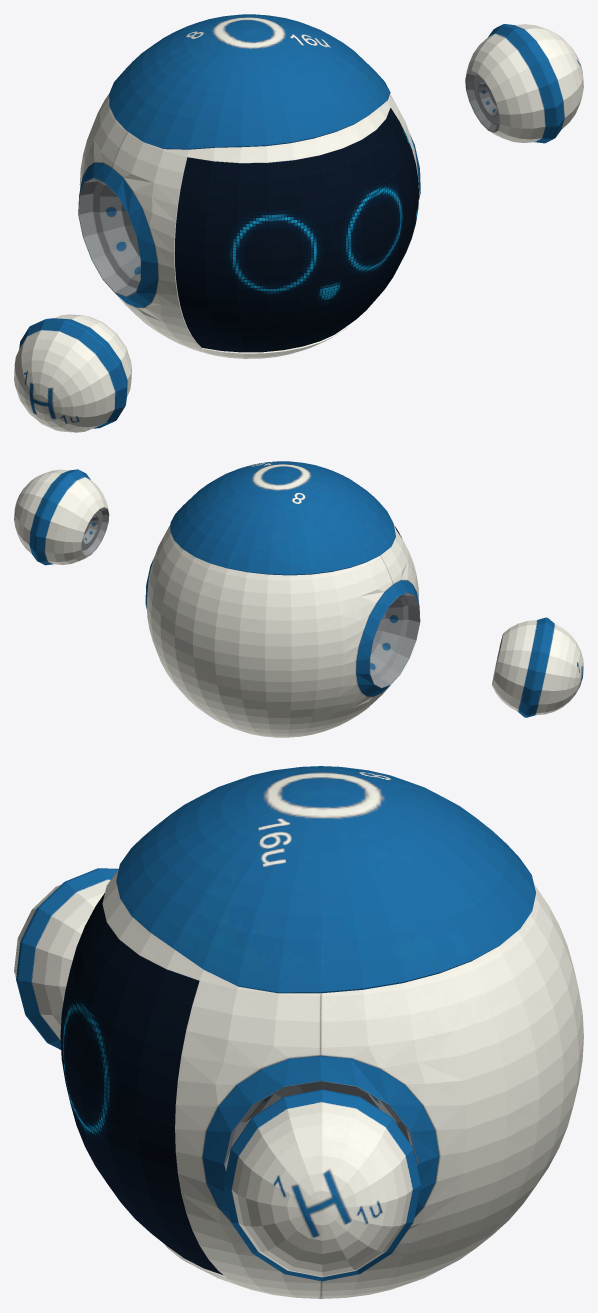
Rendered from aquandroid.635a6579.glb.
3 views of the same model, one above another, from view 1: azimuth 30°, elevation 25°; view 2: azimuth 150°, elevation 25°; view 3: azimuth 270°, elevation 25° (orthographic). The views are drawn at different scales.
Size of the model in its own units: 0.017 by 0.00767 by 0.00867.
2 materials, 2 textured.
